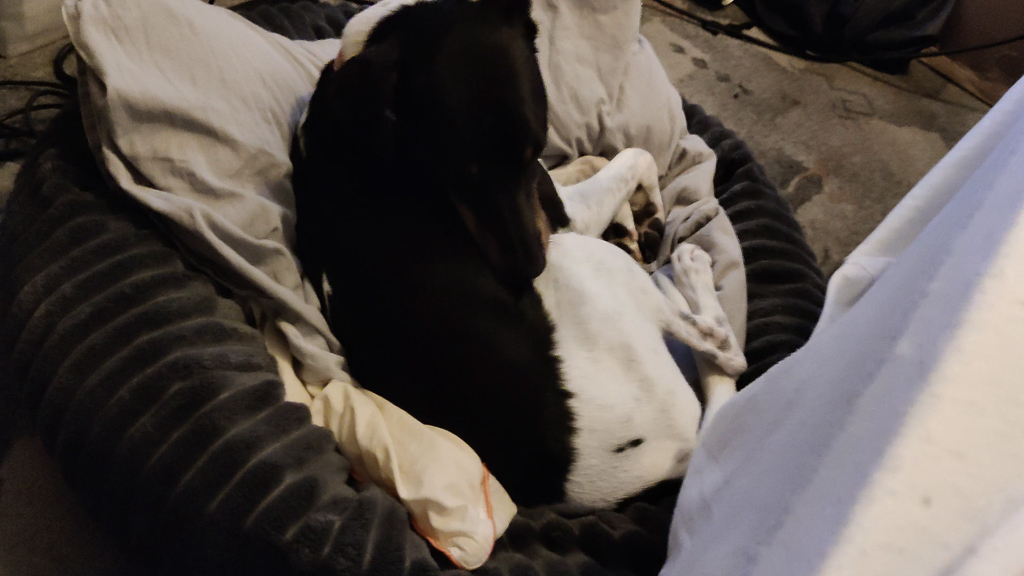Dog: (257, 0, 787, 529)
